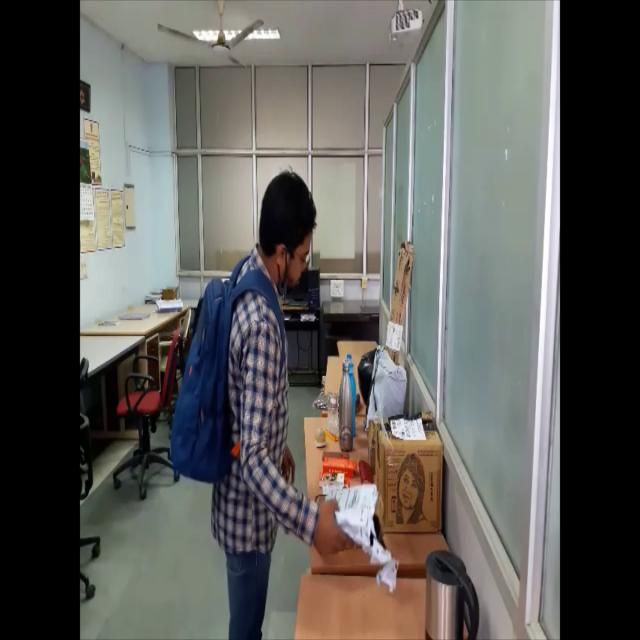normal: (170, 152, 385, 638)
